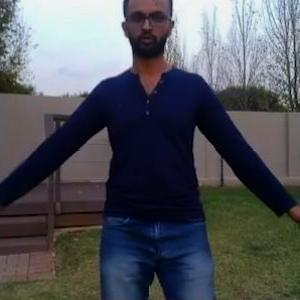land: (22, 7, 275, 299)
